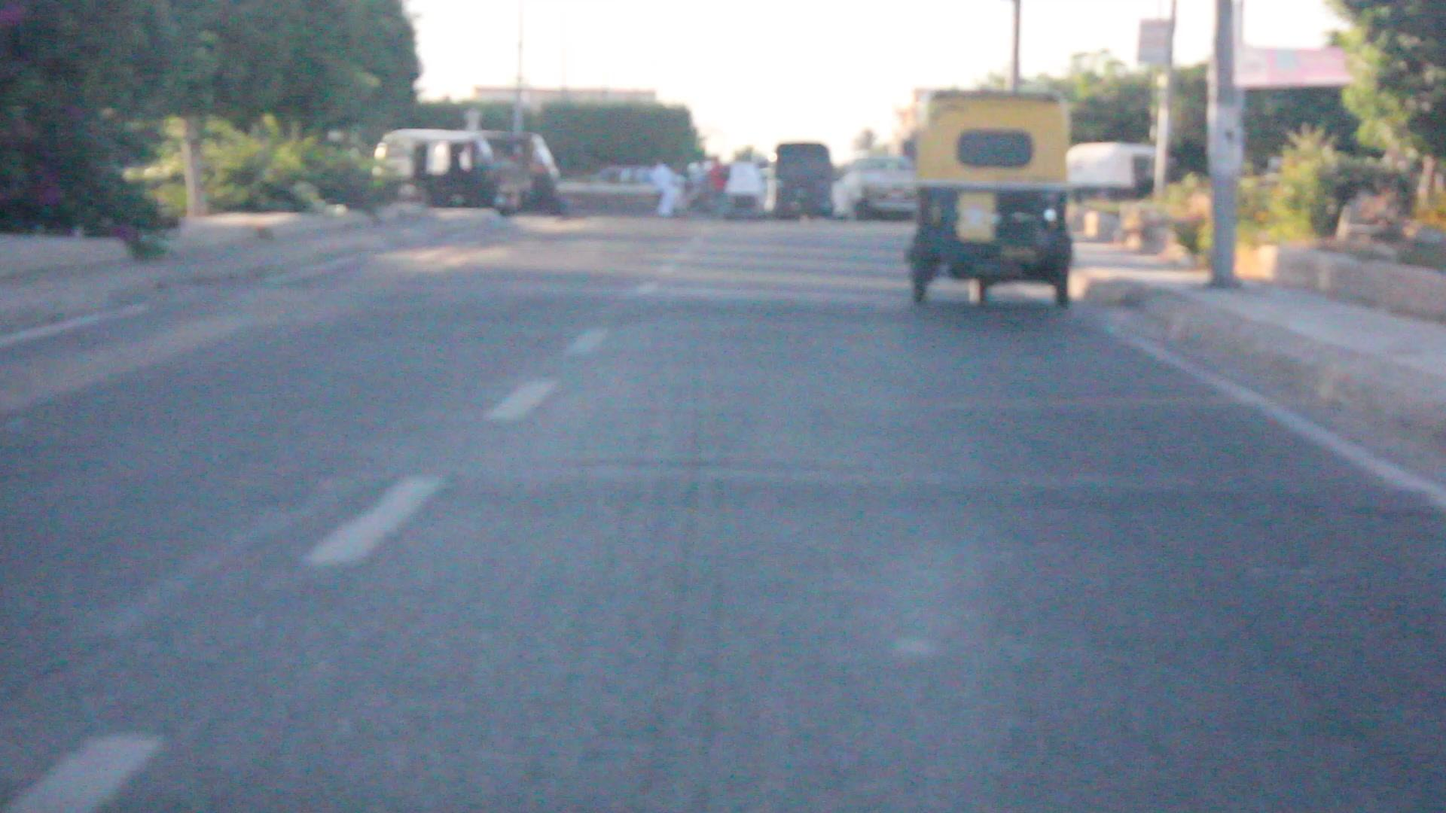Bump: (154, 278, 1116, 326)
